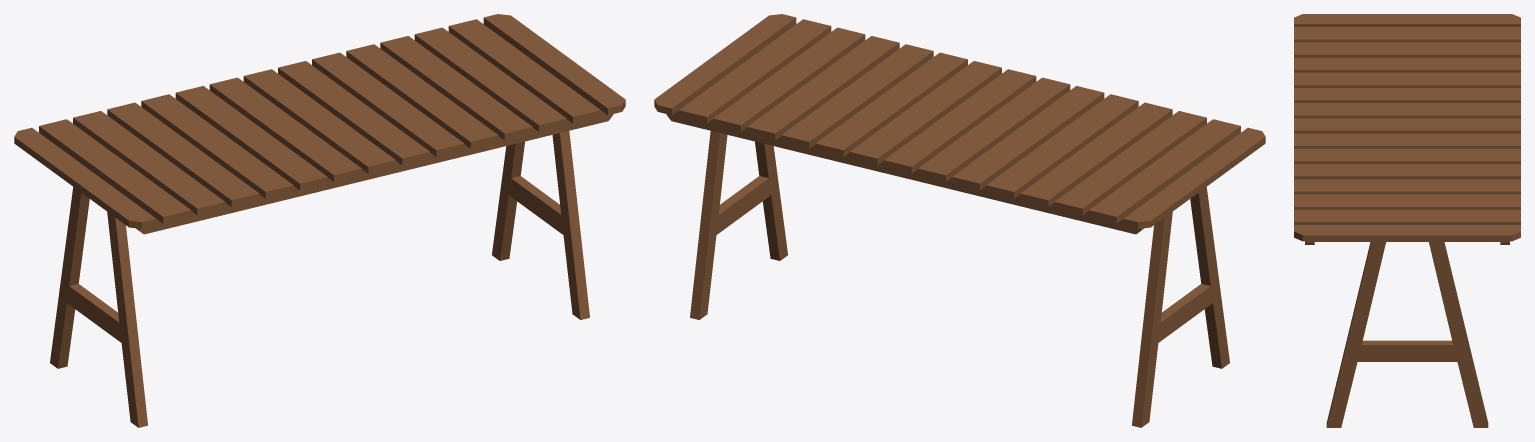
The model's file is furniture-table-outside-big.glb.
The picture shows the model from 3 angles, left to right: view 1: azimuth 30°, elevation 25°; view 2: azimuth 150°, elevation 25°; view 3: azimuth 270°, elevation 25°; orthographic projection. The views are drawn at different scales.
Parts seen in each view (by area): view 1: table-outside-big; view 2: table-outside-big; view 3: table-outside-big.
Boxes of the visible parts, x1,y1,x2,y2 form: table-outside-big: (14,14,625,427); table-outside-big: (654,14,1265,427); table-outside-big: (1294,14,1520,427).
Bounding box in the file's own units: 1.68 × 0.72 × 0.73.
